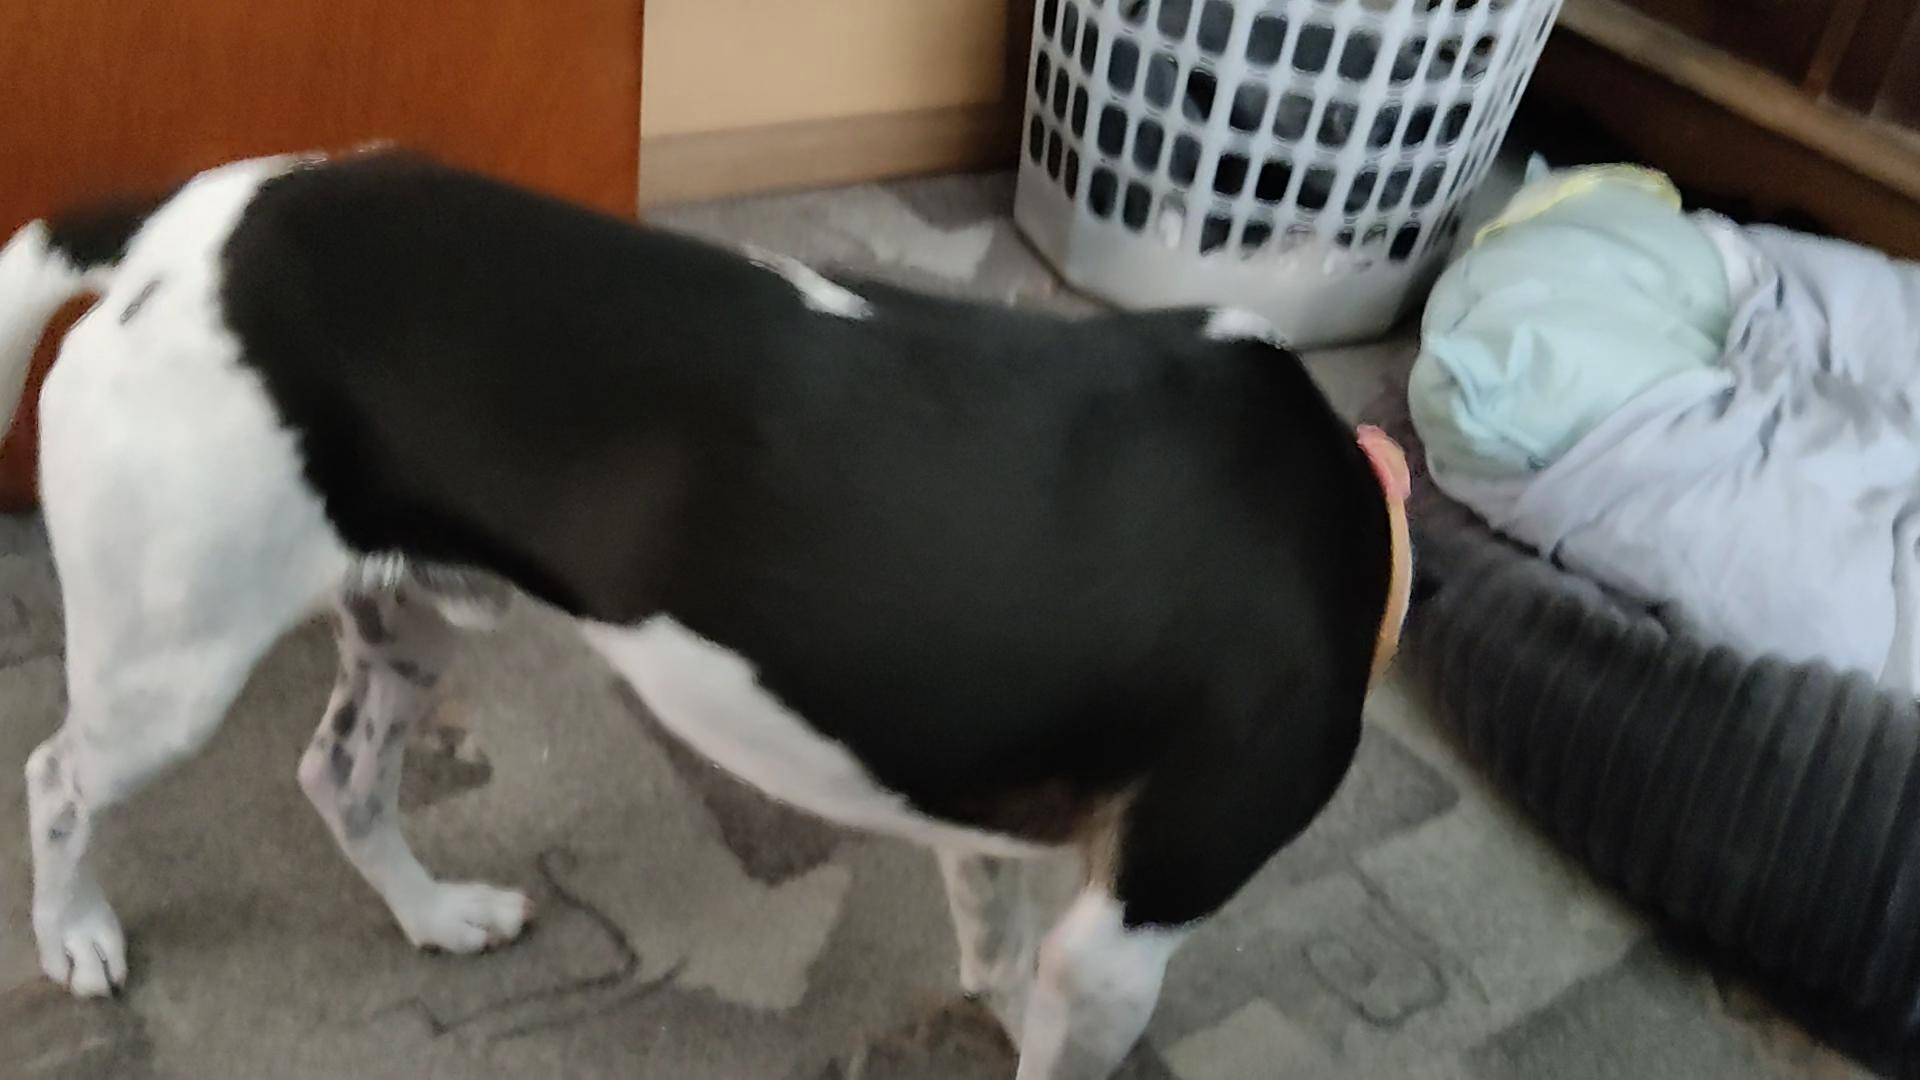Dog: (0, 133, 1424, 1079)
